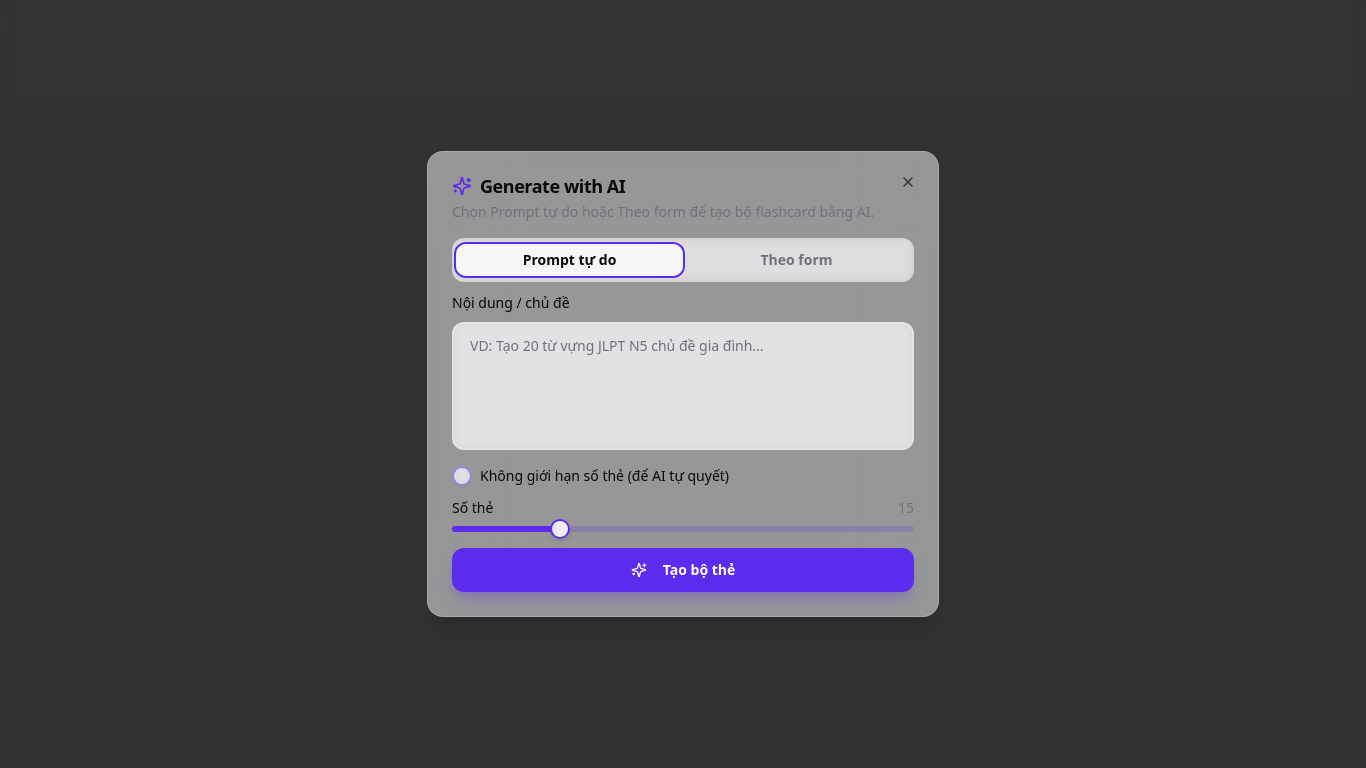
Test: AIGenerateModal › Scenario: Preview after generation
Type "Japanese family vocabulary N5" into the text box labelled "Nội dung / chủ đề" at [683, 386], box [452, 322, 914, 450]
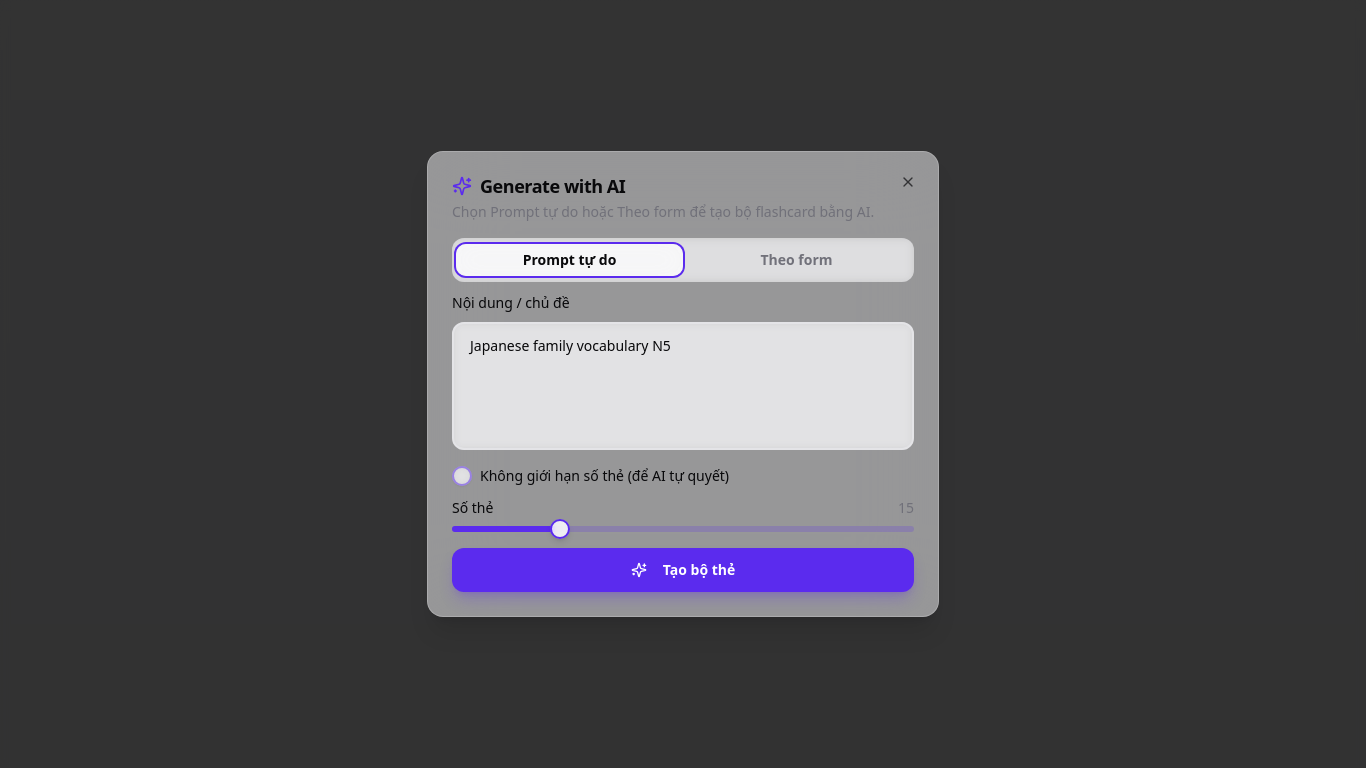
Click the button "Tạo bộ thẻ" at [683, 570], box [452, 548, 914, 592]
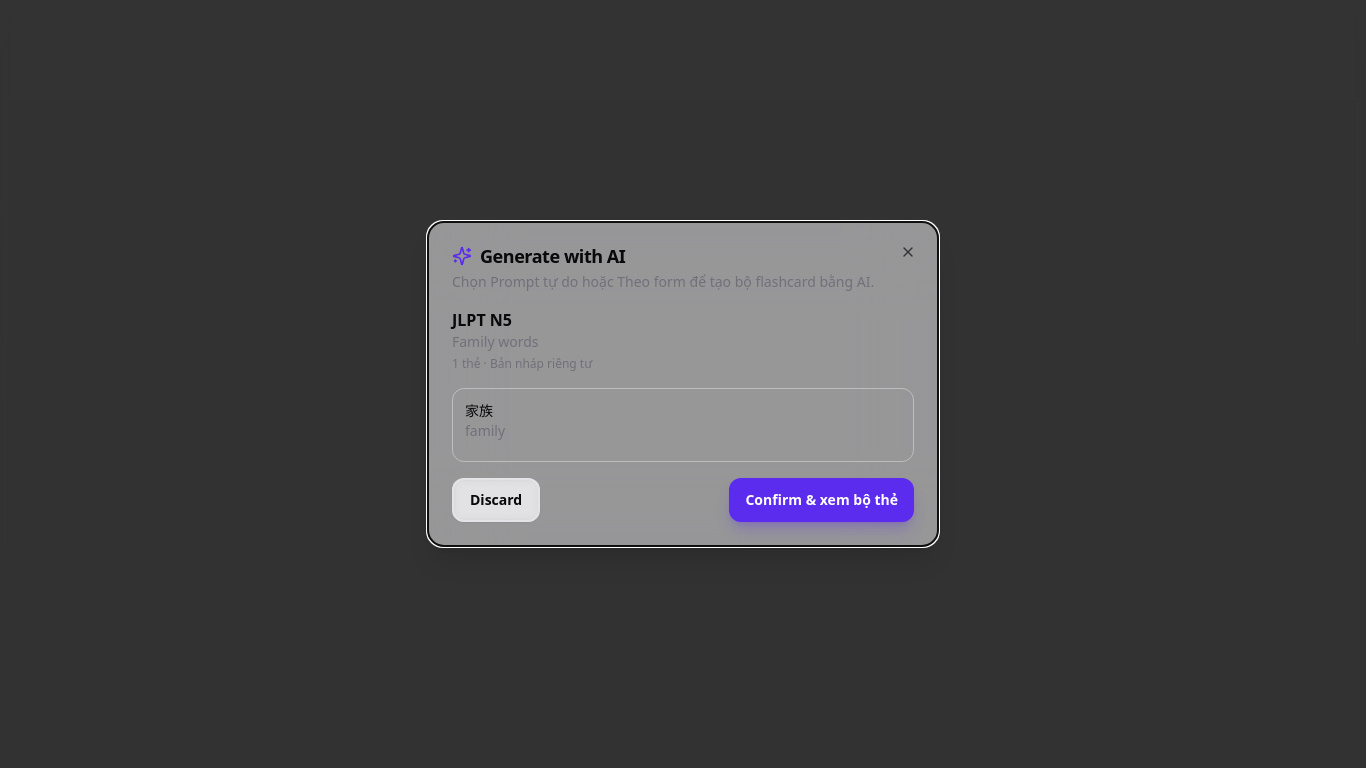
Check: the heading "JLPT N5" is shown, box [452, 309, 512, 331]
Check: the text "家族" is shown, box [465, 401, 493, 420]
Check: the button "Confirm & xem bộ thẻ" is shown, box [730, 478, 914, 522]
